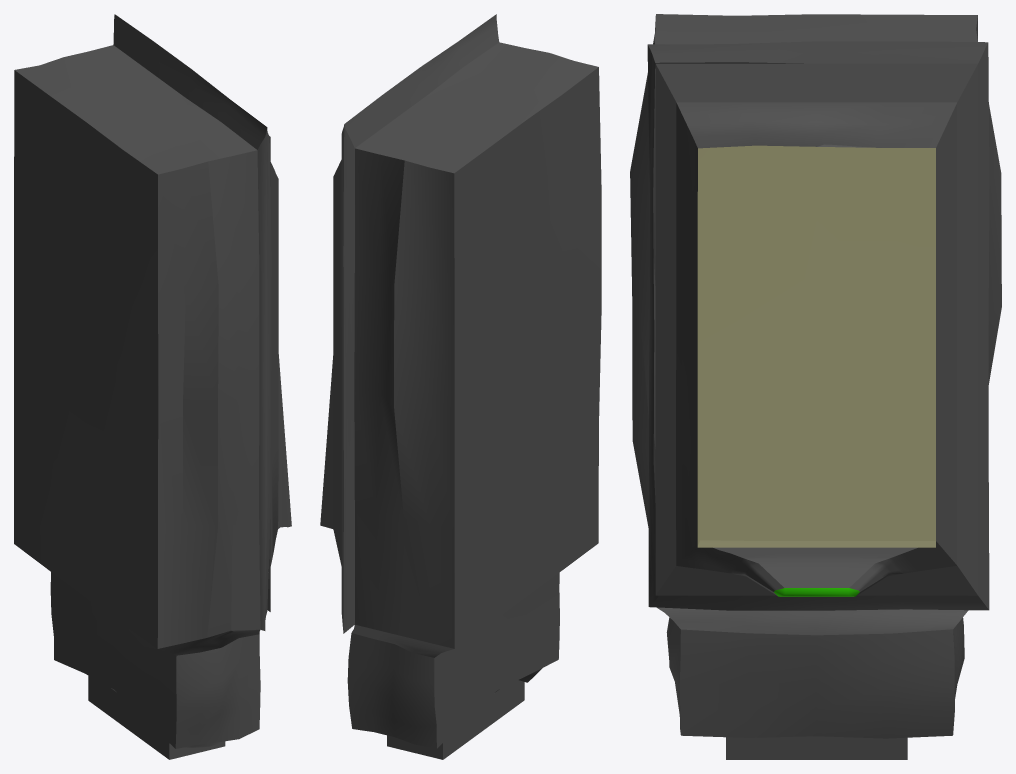
Rendered from CardReader.fbx.
The picture shows the model from 3 angles, left to right: view 1: azimuth 30°, elevation 25°; view 2: azimuth 150°, elevation 25°; view 3: azimuth 270°, elevation 25°; orthographic projection. The views are drawn at different scales.
Parts seen in each view (by area): view 1: Cube; view 2: Cube; view 3: Cube.
Part boxes in pixels (box(x1,y1,x2,y2)): Cube: box(14, 14, 291, 759); Cube: box(320, 14, 601, 759); Cube: box(630, 14, 1001, 759).
Bounding box in the file's own units: 19.64 × 73.68 × 34.38.
